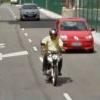cars: (54, 18, 95, 52), (18, 4, 42, 22)
